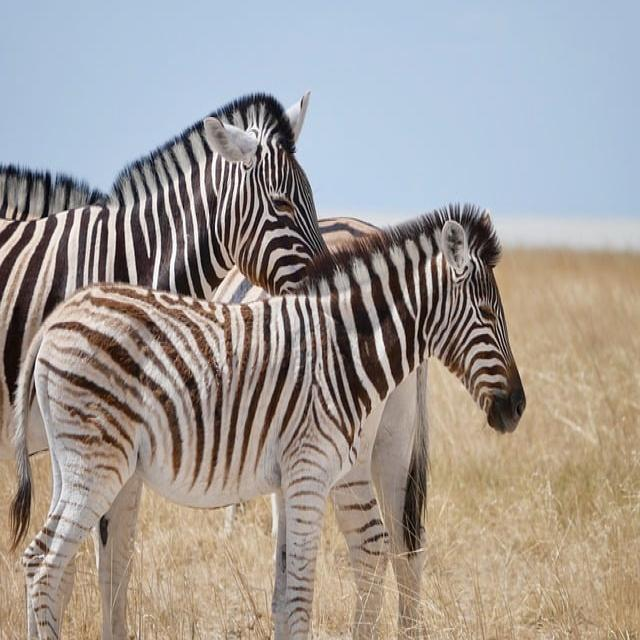Herbivorous: (15, 205, 526, 640), (0, 94, 327, 544)
